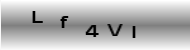4: (84, 23, 99, 38)
L: (30, 10, 44, 25)
V: (106, 22, 122, 37)
f: (59, 15, 69, 29)
l: (130, 24, 136, 39)
